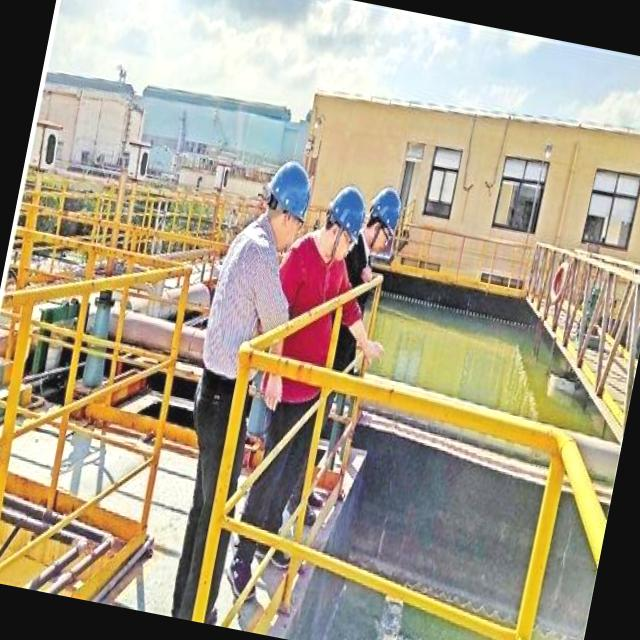helmet: (259, 159, 322, 228), (320, 182, 373, 249), (358, 186, 408, 250)
no-vest: (200, 214, 298, 398), (271, 232, 354, 382)
